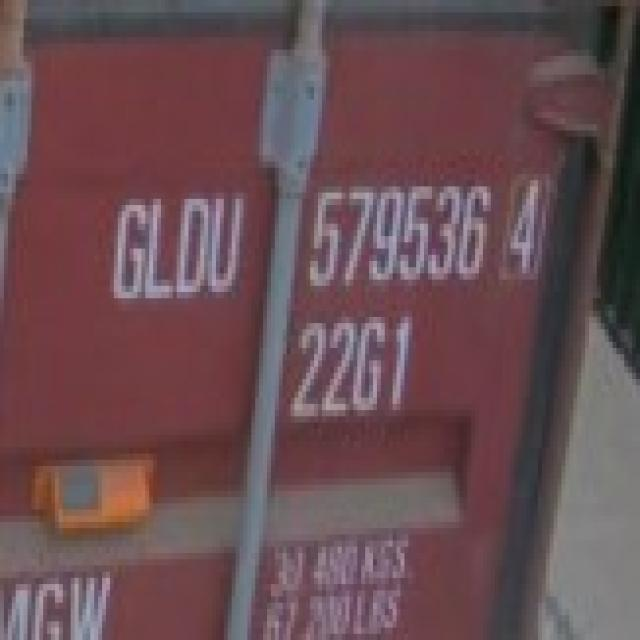dv: (502, 178, 546, 284)
owner: (101, 189, 246, 309)
serial: (306, 181, 493, 291)
size: (285, 305, 418, 420)
